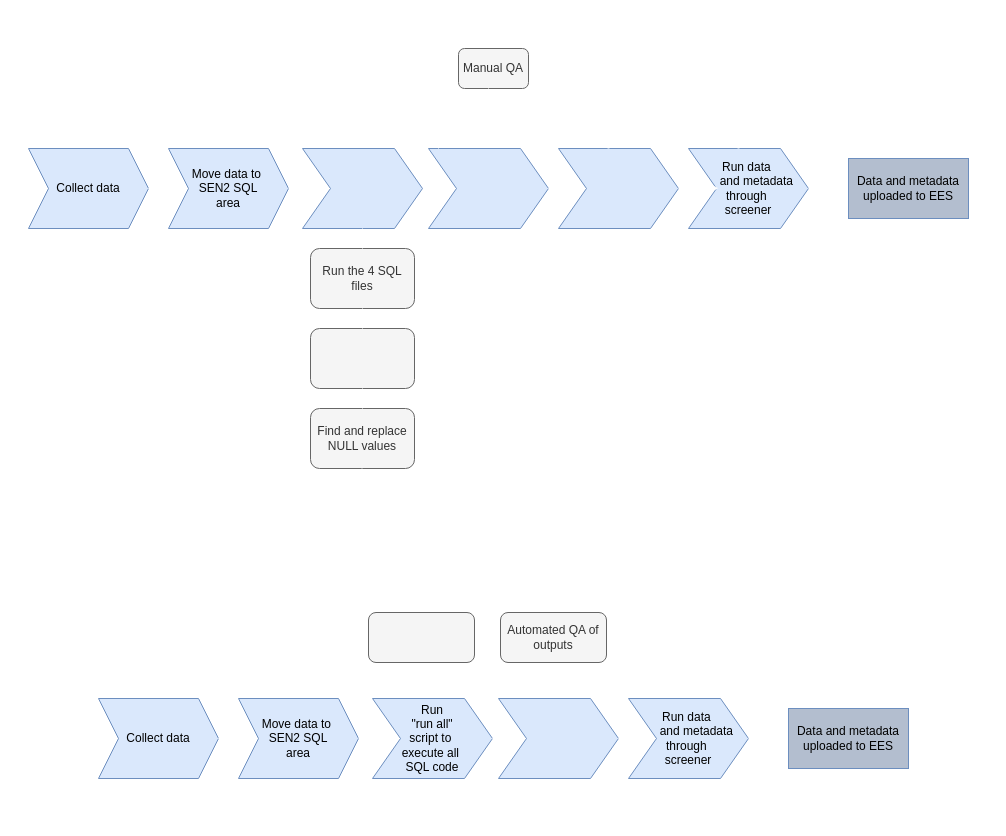
This 1006x836 diagram has some shape labels left out. Each missing label, with the centre of its shape:
"Automated QA of inputs" goes at point 421,637.
"Copy / paste 6 outputs into Excel" goes at point 362,358.
"EES tidy data and metadata files prepared" goes at point 558,738.
"EES tidy data files prepared" goes at point 488,188.
"Generate tidy data in SQL" goes at point 362,188.
"Manually create metadata files for each output" goes at point 618,188.
